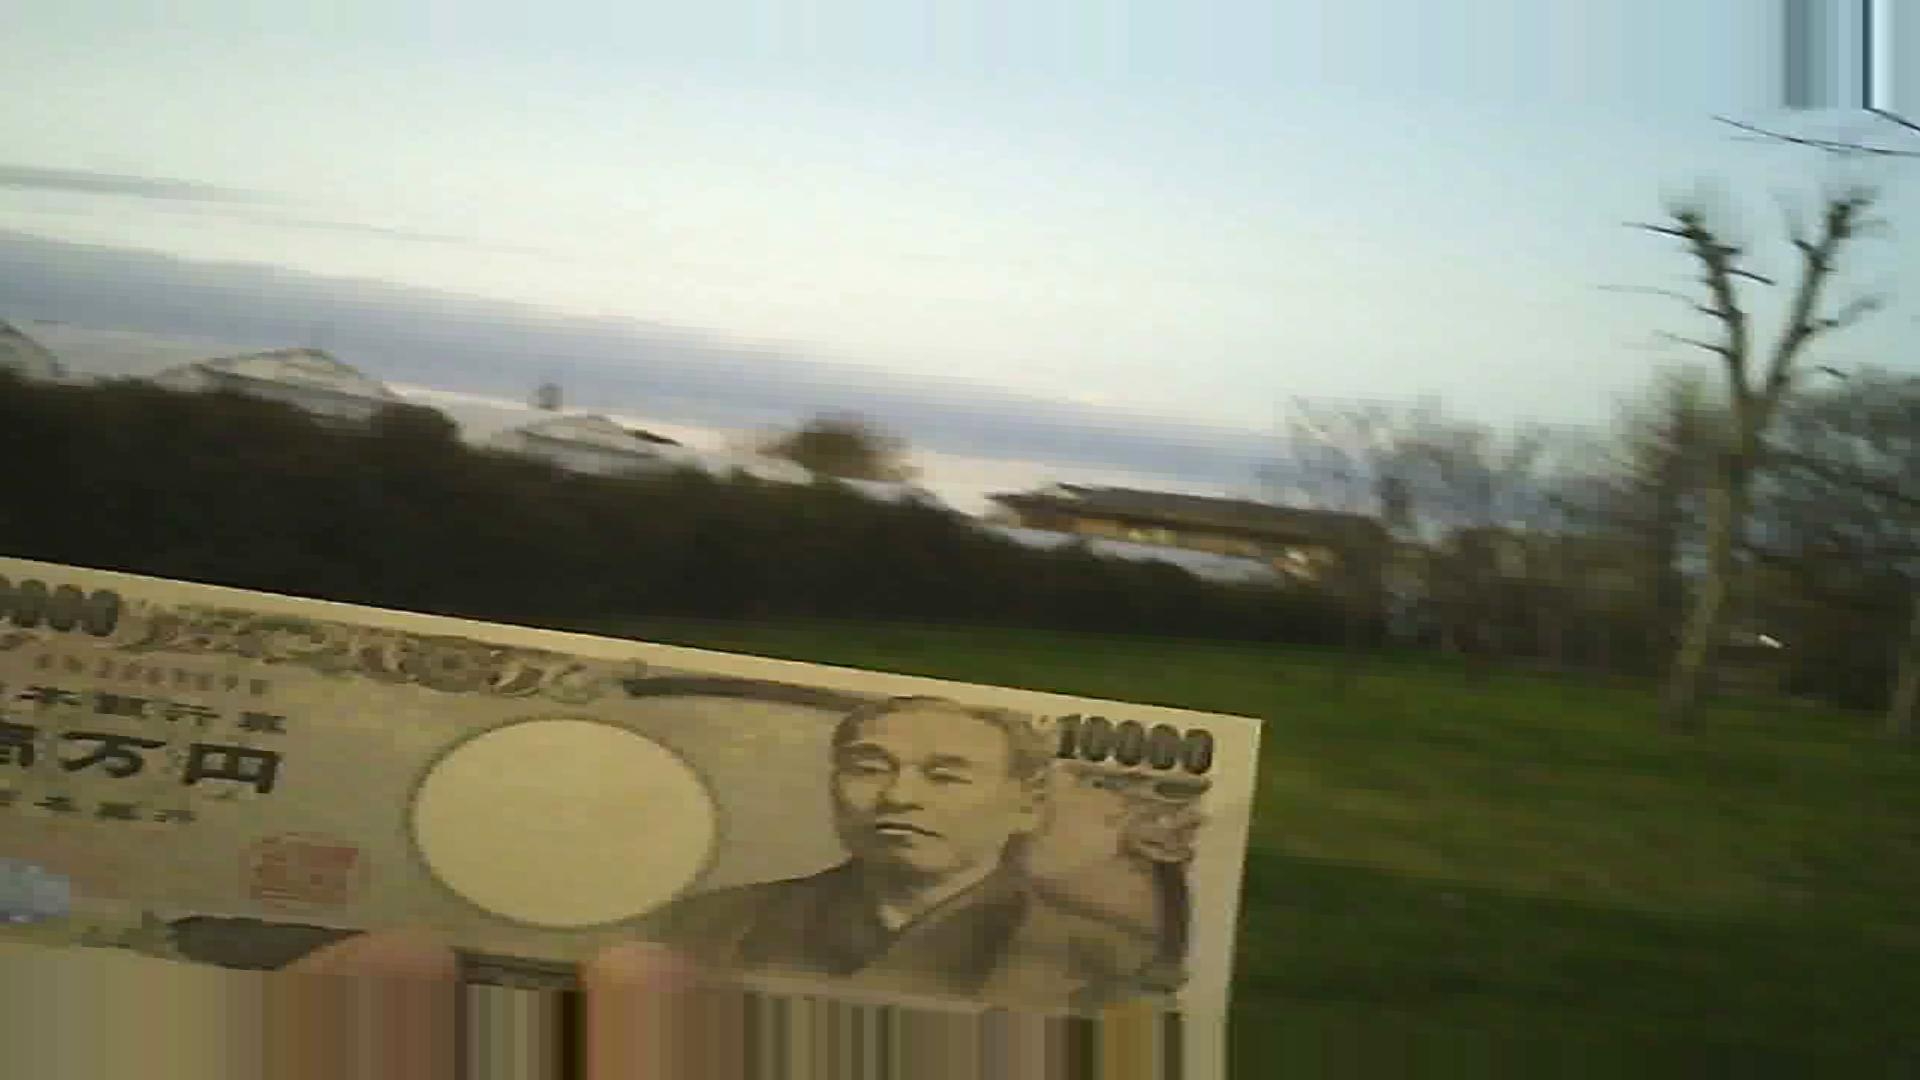10,000 Yen: (9, 525, 1303, 997)
